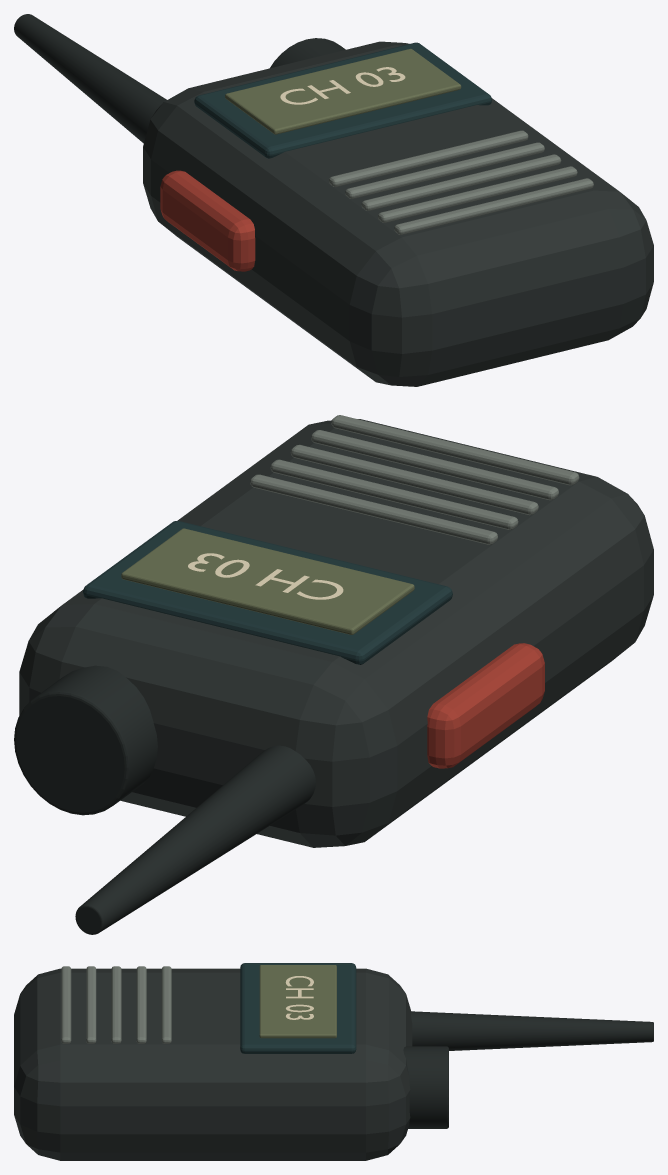
The model's file is walkie_talkie.glb.
3 views of the same model, one above another, from view 1: azimuth 30°, elevation 25°; view 2: azimuth 150°, elevation 25°; view 3: azimuth 270°, elevation 25° (orthographic). The views are drawn at different scales.
Parts seen in each view (by area): view 1: walkie_talkie; view 2: walkie_talkie; view 3: walkie_talkie.
Boxes of the visible parts, left/top/right/bottom form: walkie_talkie: left=14, top=14, right=653, bottom=386; walkie_talkie: left=14, top=415, right=653, bottom=934; walkie_talkie: left=14, top=963, right=653, bottom=1160.
Bounding box in the file's own units: 0.0965 × 0.0465 × 0.22.
